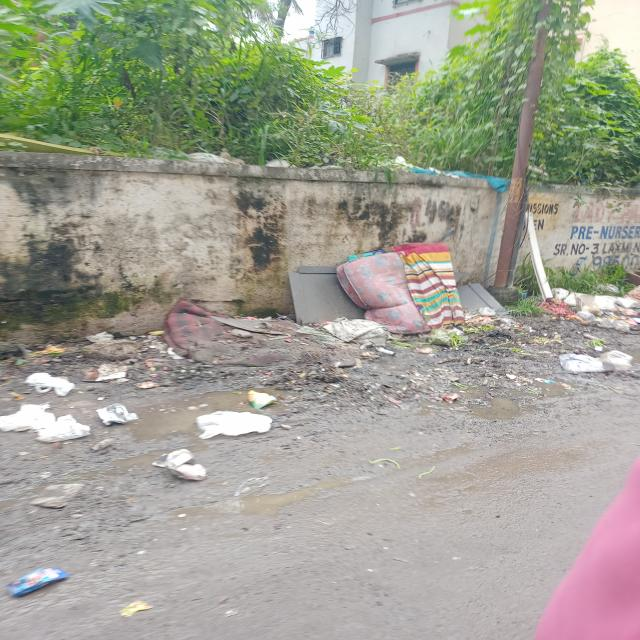garbage: (24, 314, 315, 441), (292, 247, 636, 347)
